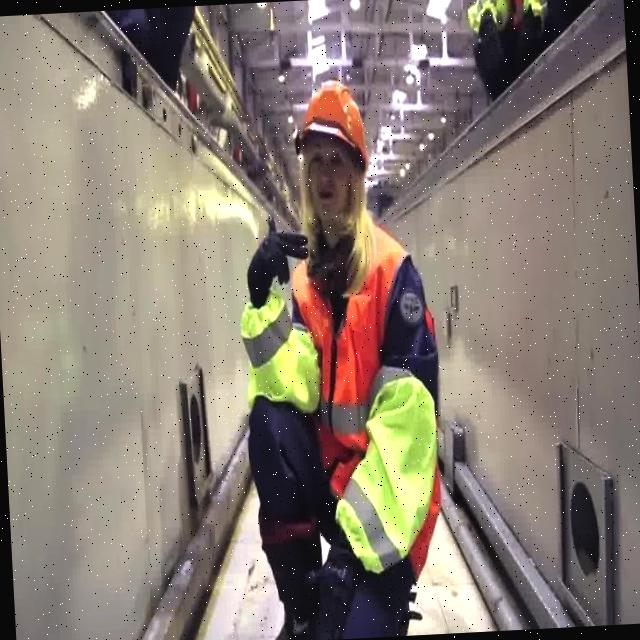vest: (290, 206, 420, 506), (325, 374, 442, 576), (240, 294, 324, 411)
